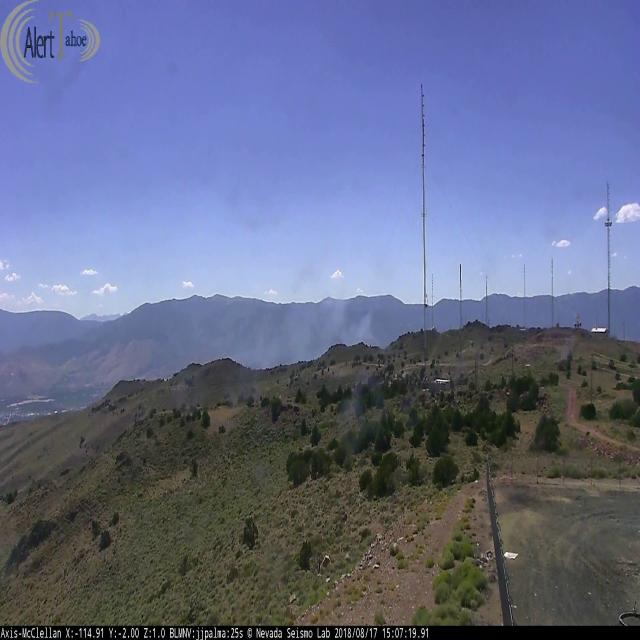smoke: (160, 264, 385, 371)
